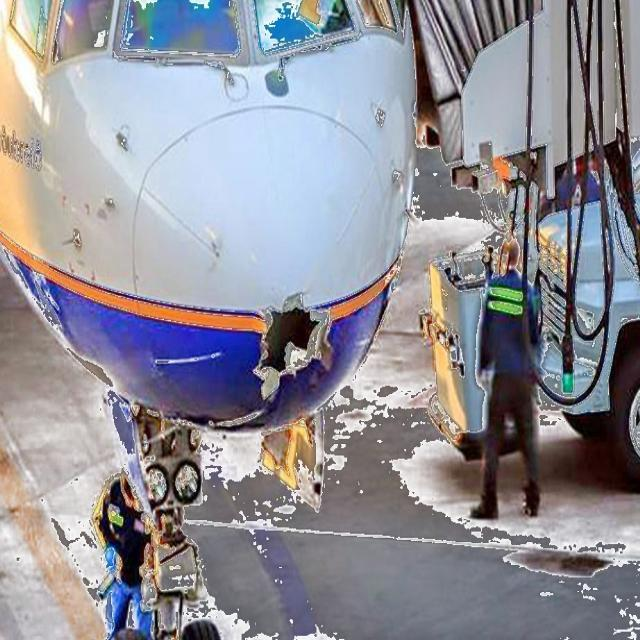crack: (250, 294, 339, 409)
